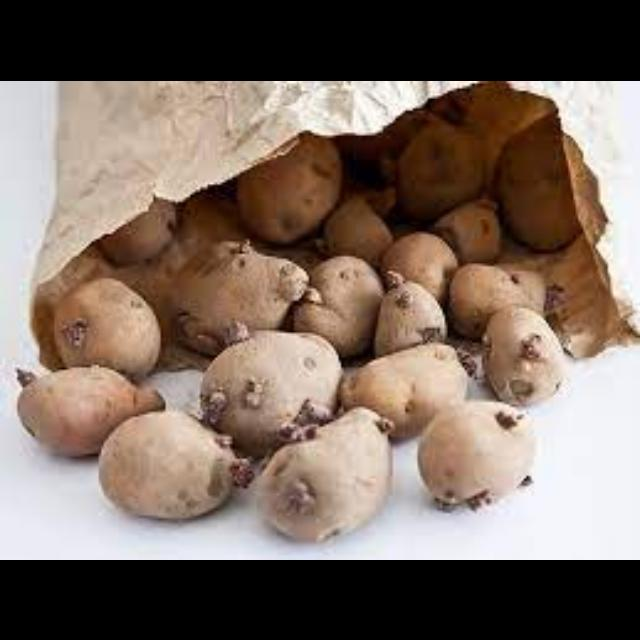Sprouted potato: (258, 408, 404, 548), (192, 321, 346, 453), (98, 408, 252, 520), (168, 240, 306, 362), (14, 362, 172, 458), (45, 267, 168, 388), (336, 342, 484, 438), (422, 399, 542, 515), (286, 255, 389, 362), (478, 306, 574, 406), (359, 270, 458, 366)
